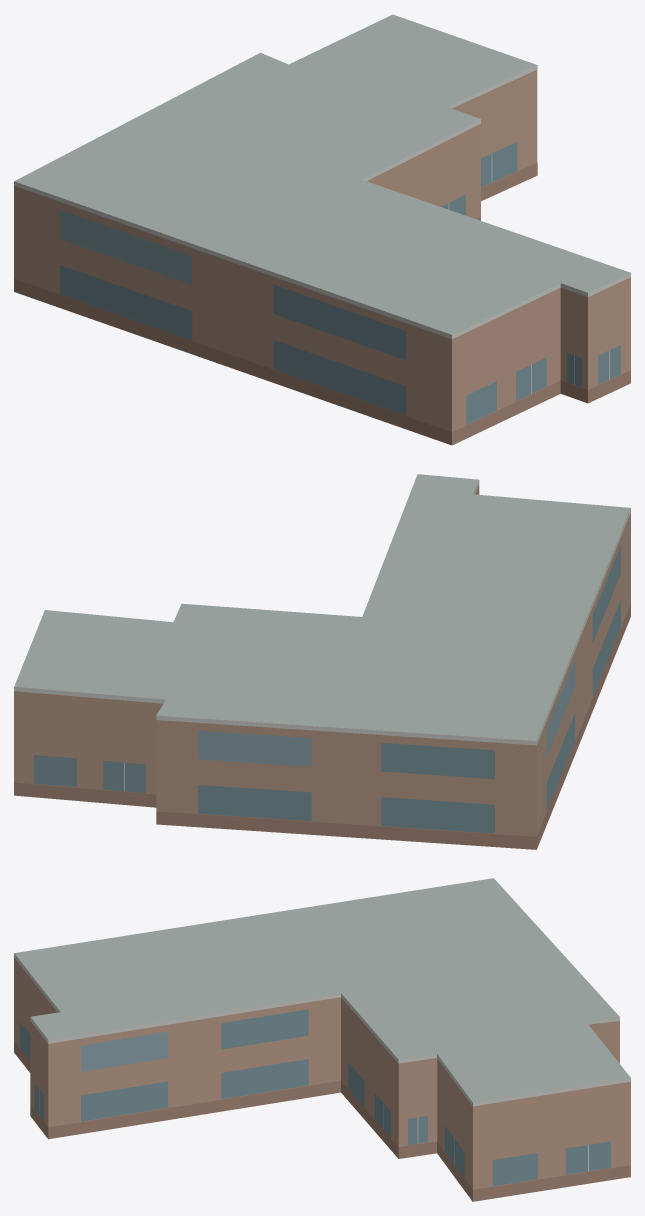
Rendered from survey-upis-32839085.glb.
3 views of the same model, one above another, from view 1: azimuth 30°, elevation 25°; view 2: azimuth 150°, elevation 25°; view 3: azimuth 270°, elevation 25° (orthographic). The views are drawn at different scales.
Parts seen in each view (by area): view 1: survey-upis-32839085.tmp; view 2: survey-upis-32839085.tmp; view 3: survey-upis-32839085.tmp.
Boxes of the visible parts, x1=… form: survey-upis-32839085.tmp: x1=14, y1=14, x2=630, y2=445; survey-upis-32839085.tmp: x1=14, y1=474, x2=630, y2=849; survey-upis-32839085.tmp: x1=14, y1=878, x2=630, y2=1201.
Bounding box in the file's own units: 29.55 × 6.1 × 34.33.
